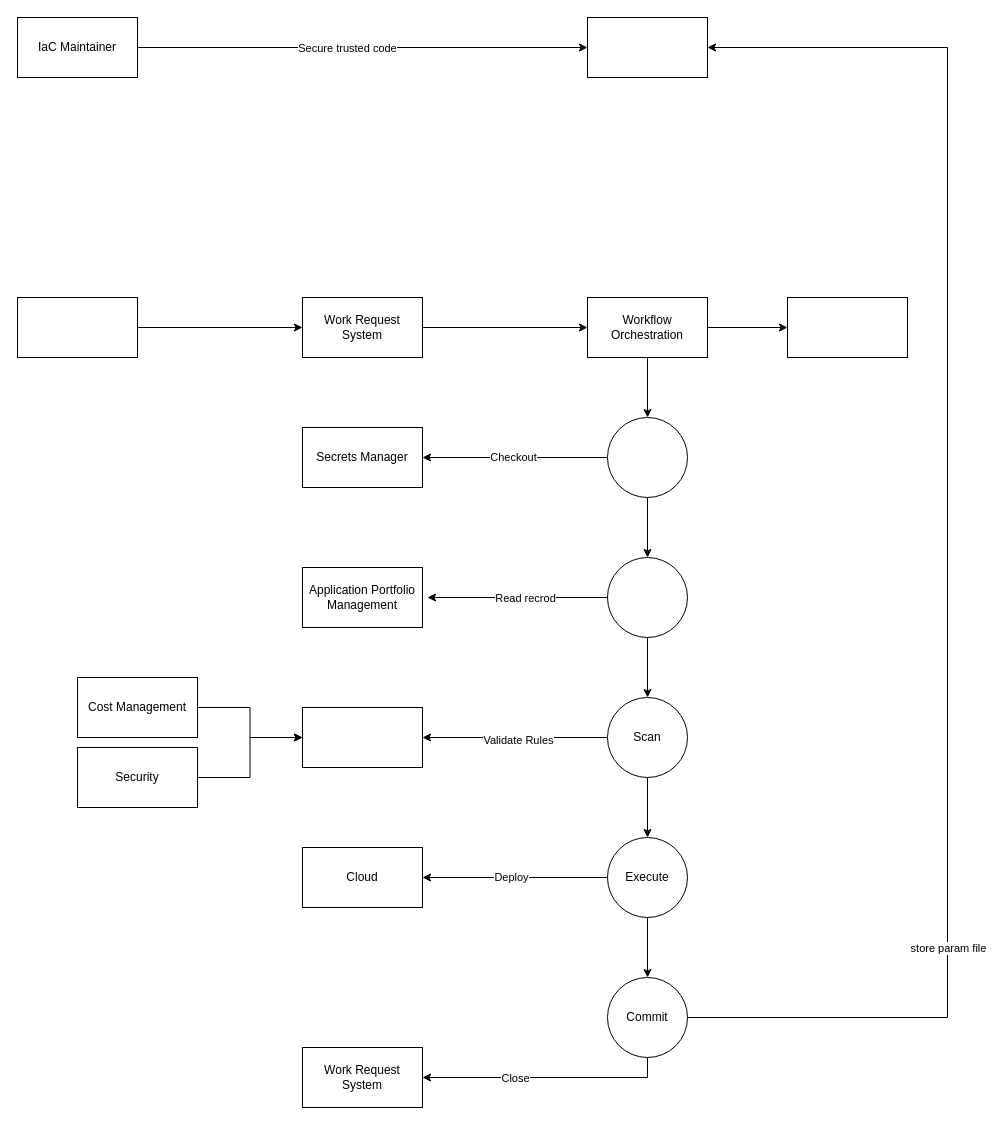
The diagram is 1003 pixels wide and 1125 high, and some of its shapes have lost their labels. Here are the shapes that lost their labels. From the top down, the centre of each, then its label:
the point at 647,47: Source Version Control
the point at 77,327: Engineer
the point at 847,327: IaC
the point at 647,457: Credential Checkout
the point at 647,597: Apply Parameters
the point at 362,737: Policy Engine
